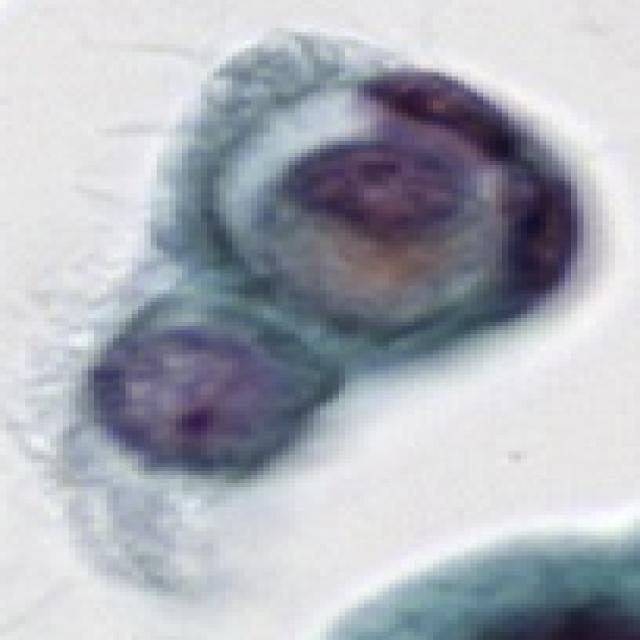nucleus: (308, 16, 627, 340), (83, 314, 318, 496), (272, 129, 490, 257)
